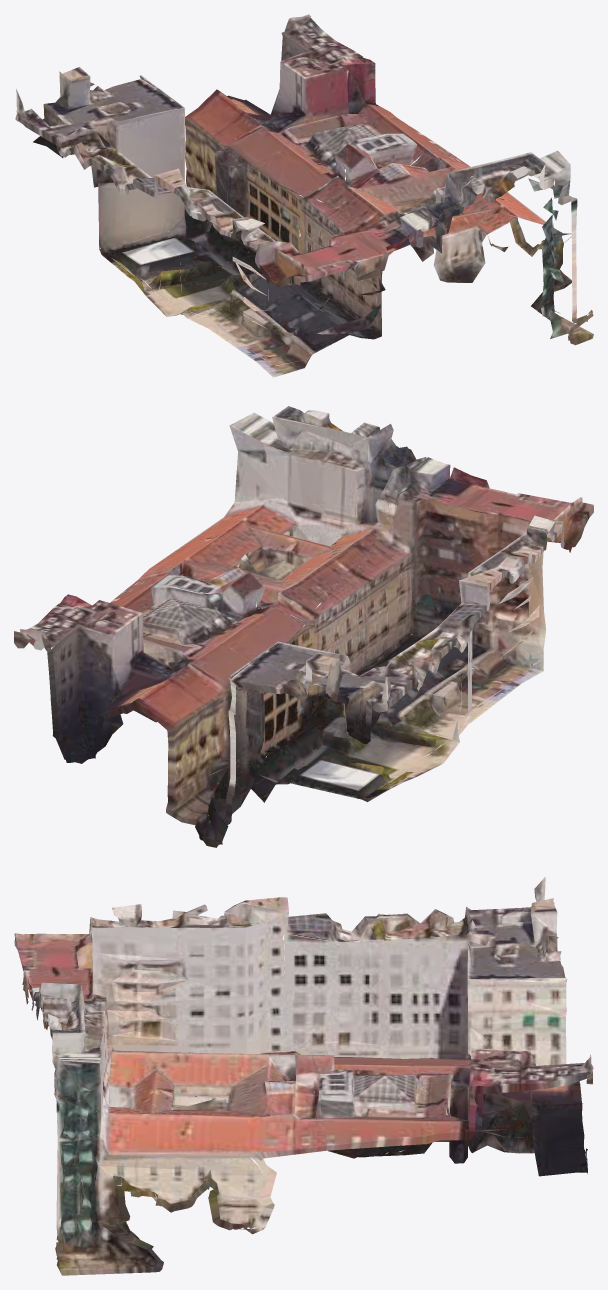
3 views of the same model, one above another, from view 1: azimuth 30°, elevation 25°; view 2: azimuth 150°, elevation 25°; view 3: azimuth 270°, elevation 25° (orthographic). The views are drawn at different scales.
Visible parts, largest first — view 1: Mesh_0; view 2: Mesh_0; view 3: Mesh_0.
Boxes of the visible parts, bbox=[...] form: Mesh_0: bbox=[15, 14, 593, 377]; Mesh_0: bbox=[14, 406, 593, 847]; Mesh_0: bbox=[14, 877, 593, 1275].
Bounding box in the file's own units: 66.86 × 34.92 × 82.53.
Materials: 2 (2 with a texture image).
